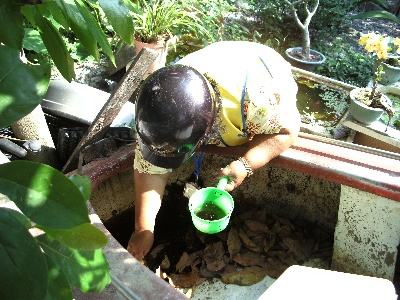bowl: (188, 187, 235, 234)
